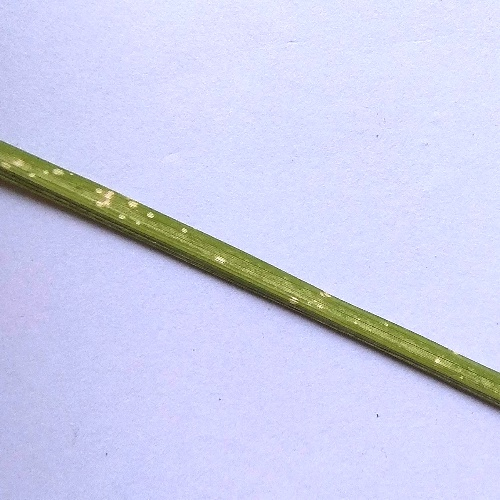Busuk Leher: (92, 179, 120, 216), (8, 146, 32, 176), (283, 285, 306, 316), (42, 159, 67, 178), (208, 247, 231, 266), (318, 280, 336, 304), (175, 220, 195, 237), (431, 350, 448, 369), (145, 203, 161, 223), (128, 194, 140, 216)
